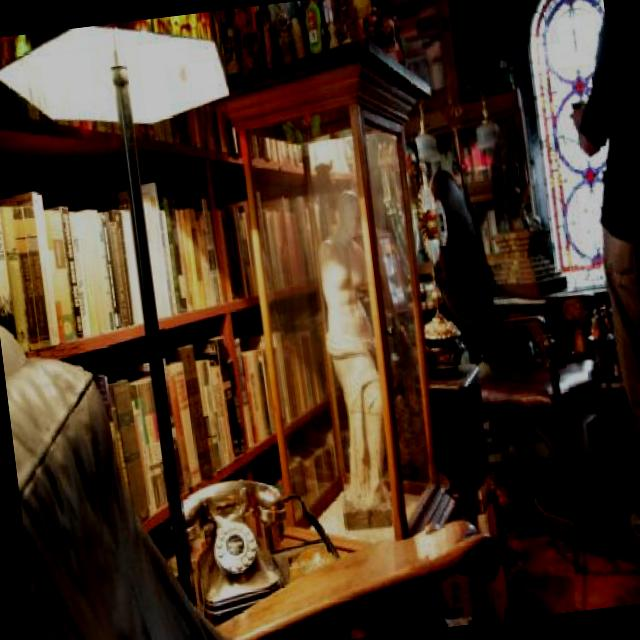Person: (304, 198, 404, 542)
